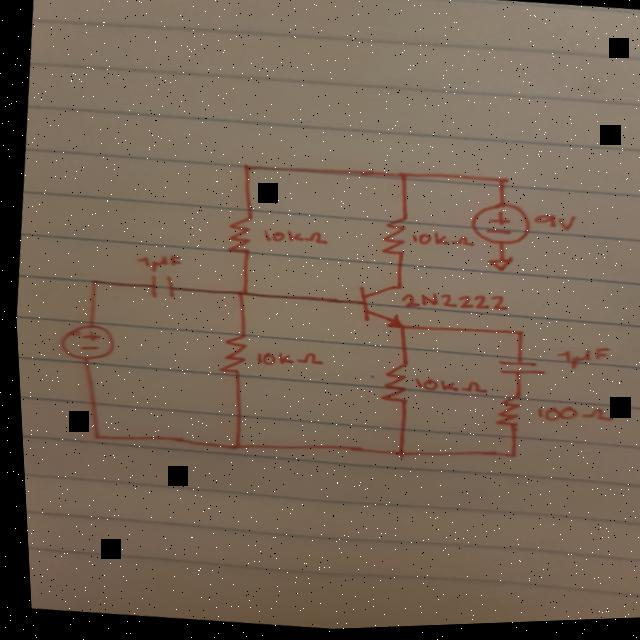capacitor: (490, 357, 541, 381), (142, 271, 176, 301)
ground: (480, 256, 510, 276)
junction: (84, 431, 101, 443), (237, 161, 252, 174), (229, 287, 245, 299), (491, 177, 509, 187), (389, 449, 402, 461), (394, 172, 405, 182), (500, 452, 511, 462), (509, 331, 521, 340), (225, 441, 236, 450), (85, 276, 95, 285)
resistor: (210, 331, 246, 377), (373, 214, 408, 260), (371, 361, 406, 407), (220, 214, 255, 256), (486, 392, 518, 432)
source: (464, 201, 530, 251), (53, 320, 112, 362)
text: (394, 288, 508, 321), (527, 403, 607, 431), (546, 344, 608, 378), (406, 374, 486, 400), (250, 348, 319, 373), (255, 226, 327, 249), (402, 231, 476, 252), (526, 212, 577, 237), (129, 251, 180, 275)
transistor: (348, 281, 407, 333)
